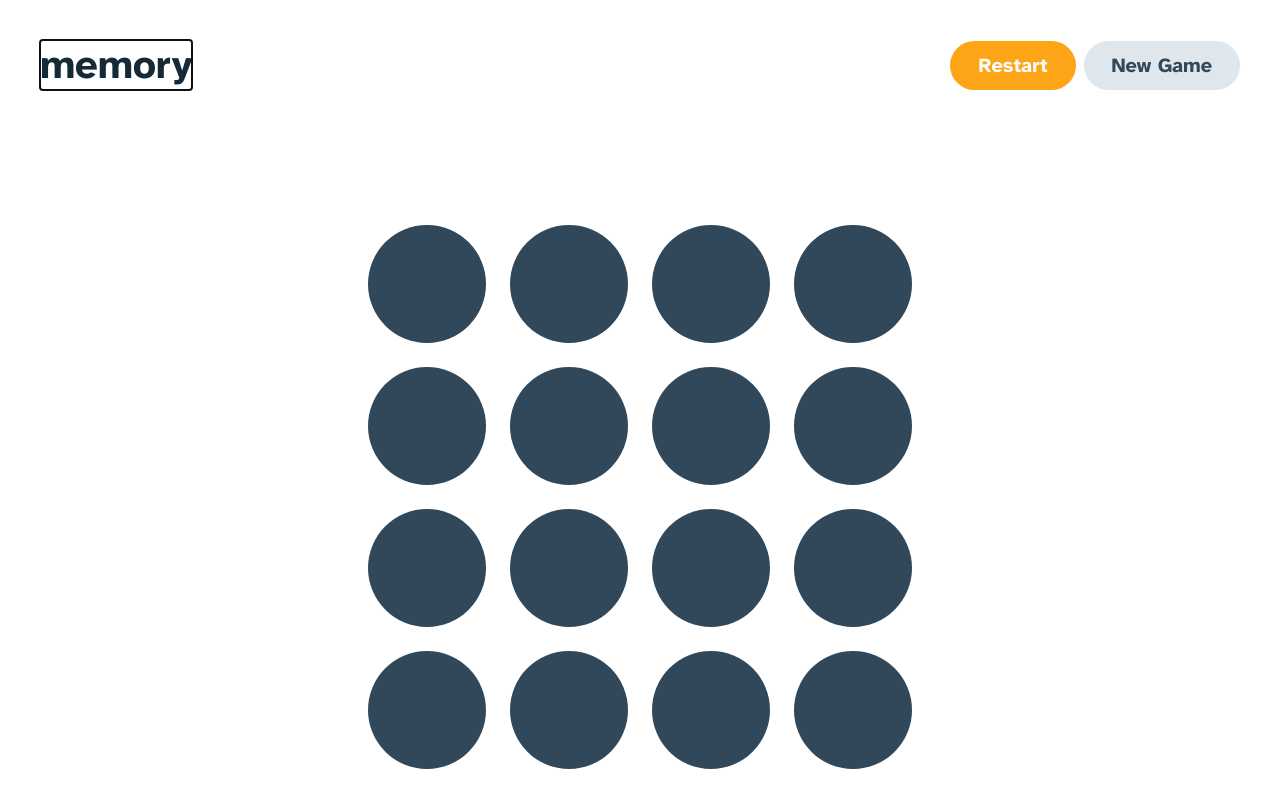
Test: App (integration, real pages) › returns to the real SetupPage when New Game is clicked
What coordinates should you click on to do the following:
click the button "New Game"
I would click on:
 (1162, 65)
Its box is [1084,40,1240,90].
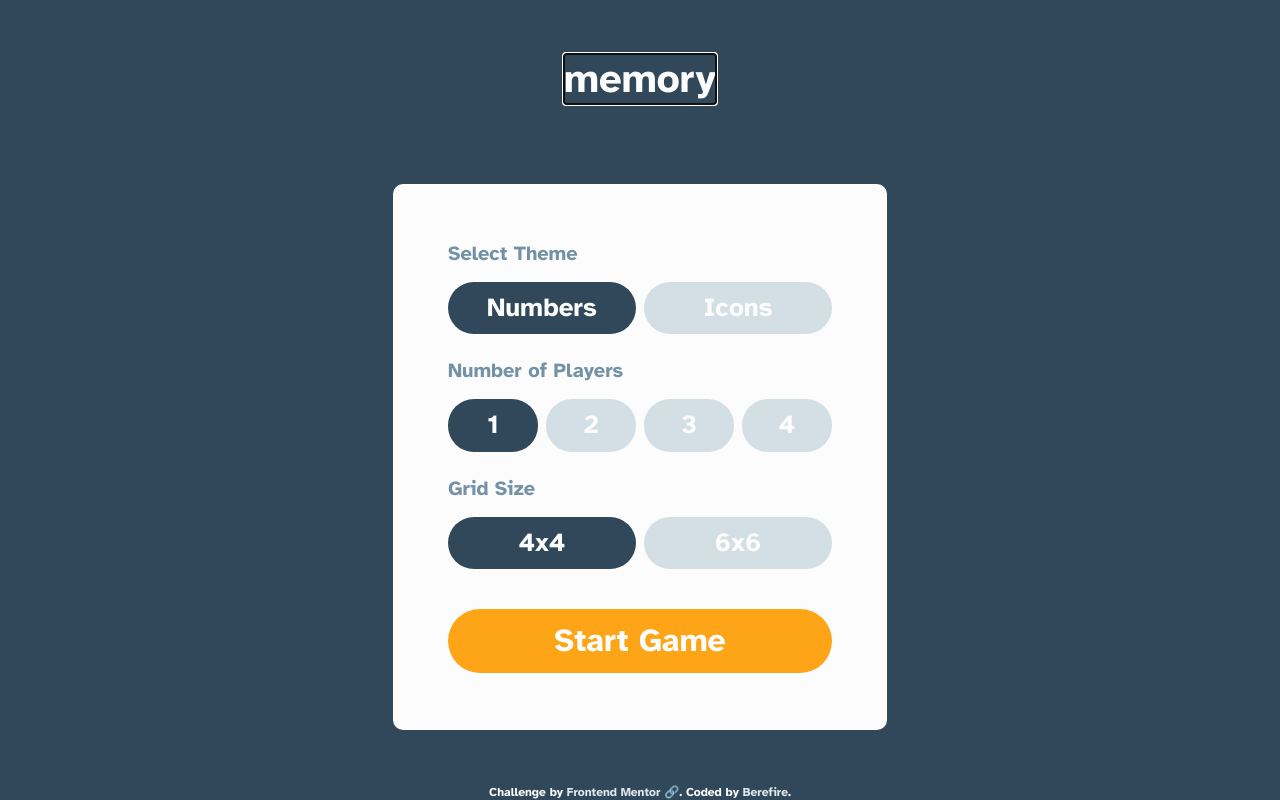
Check: the button "Start Game" is shown, box [448,609,832,673]
